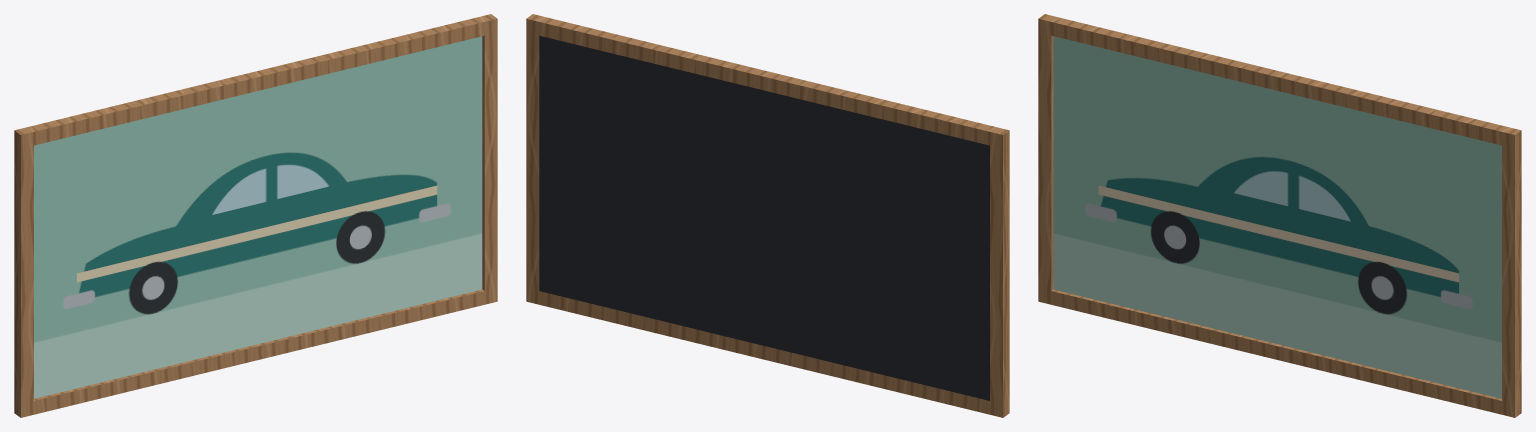
The model's file is SM_Painting_Araba.glb.
The picture shows the model from 3 angles, left to right: view 1: azimuth 30°, elevation 25°; view 2: azimuth 150°, elevation 25°; view 3: azimuth 330°, elevation 25°; orthographic projection.
Parts seen in each view (by area): view 1: SM_Painting_Araba; view 2: SM_Painting_Araba; view 3: SM_Painting_Araba.
Part boxes in pixels (<box>): SM_Painting_Araba: <box>14,14,497,417</box>; SM_Painting_Araba: <box>526,14,1009,417</box>; SM_Painting_Araba: <box>1038,14,1521,417</box>.
Bounding box in the file's own units: 1.27 × 0.72 × 0.03.
3 materials, 3 textured.
